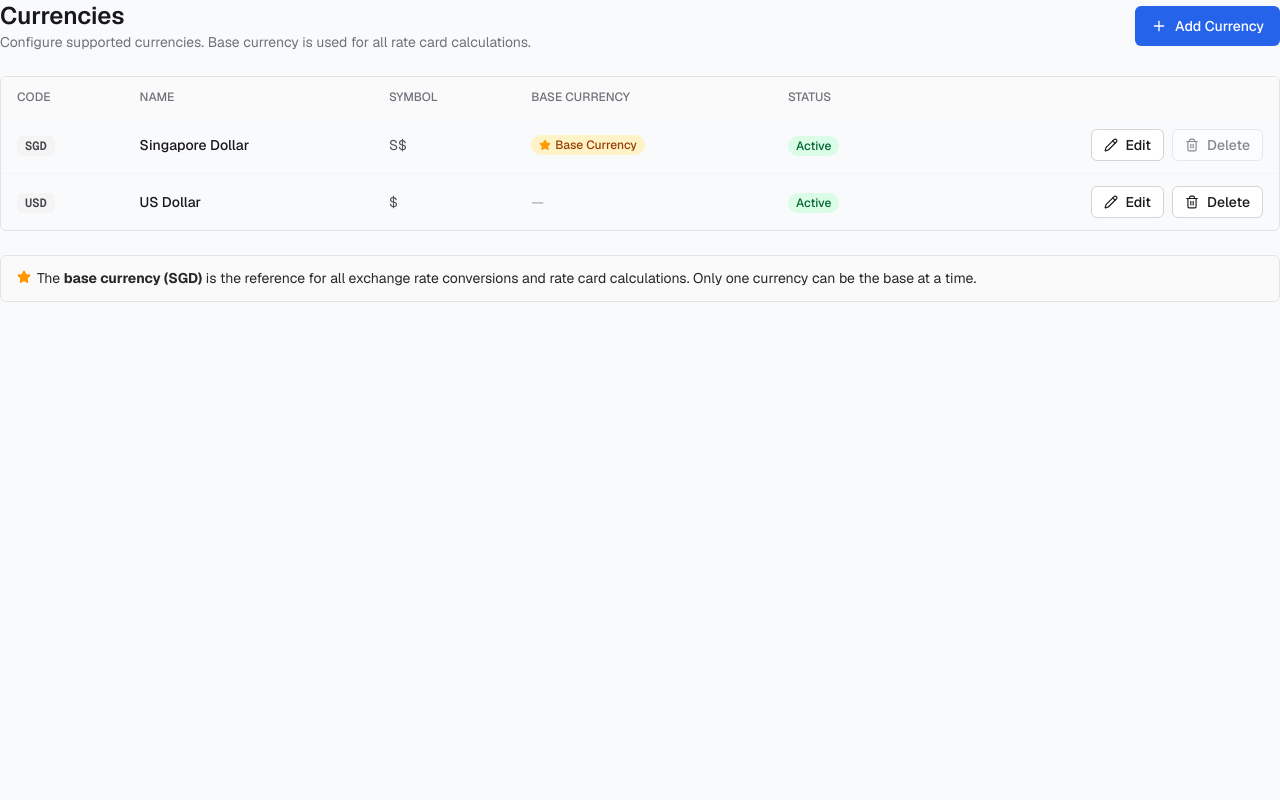
it: CurrenciesTable › opens the Edit modal pre-filled for the clicked row
Check: the text "Singapore Dollar" is shown, box [124,117,373,174]
Click the button "Edit" in the row of "USD": (1127, 202) [1091,186,1164,218]
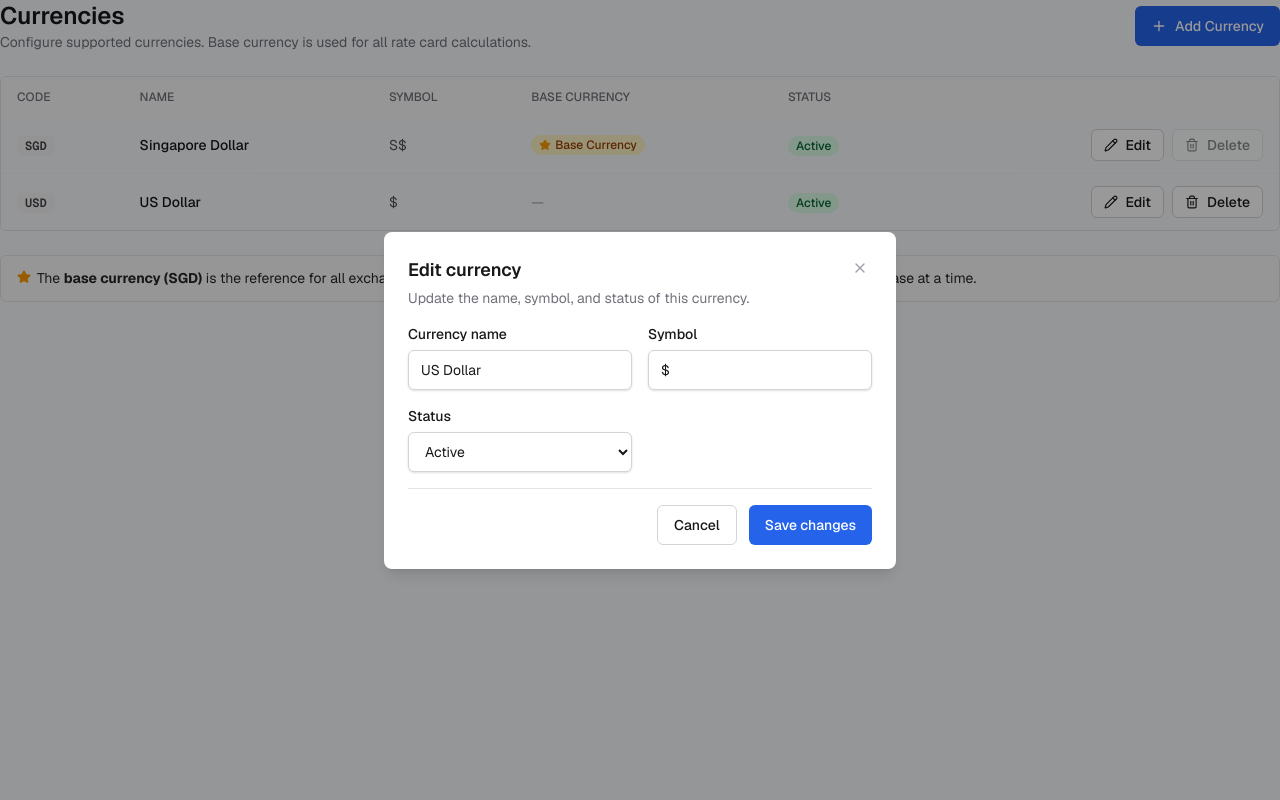
Check: the heading "Edit currency" is shown, box [408,258,522,280]
Check: the field labelled "Currency name" holds "US Dollar", box [408,350,632,390]
